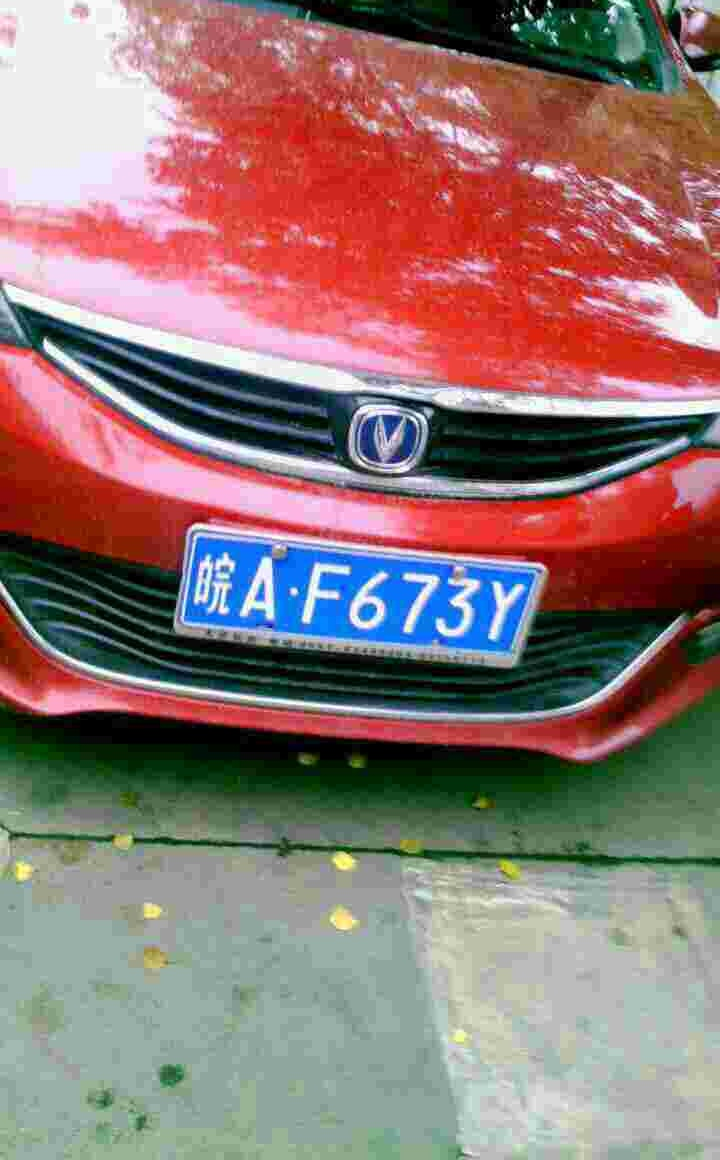car_blue: (177, 522, 548, 678)
